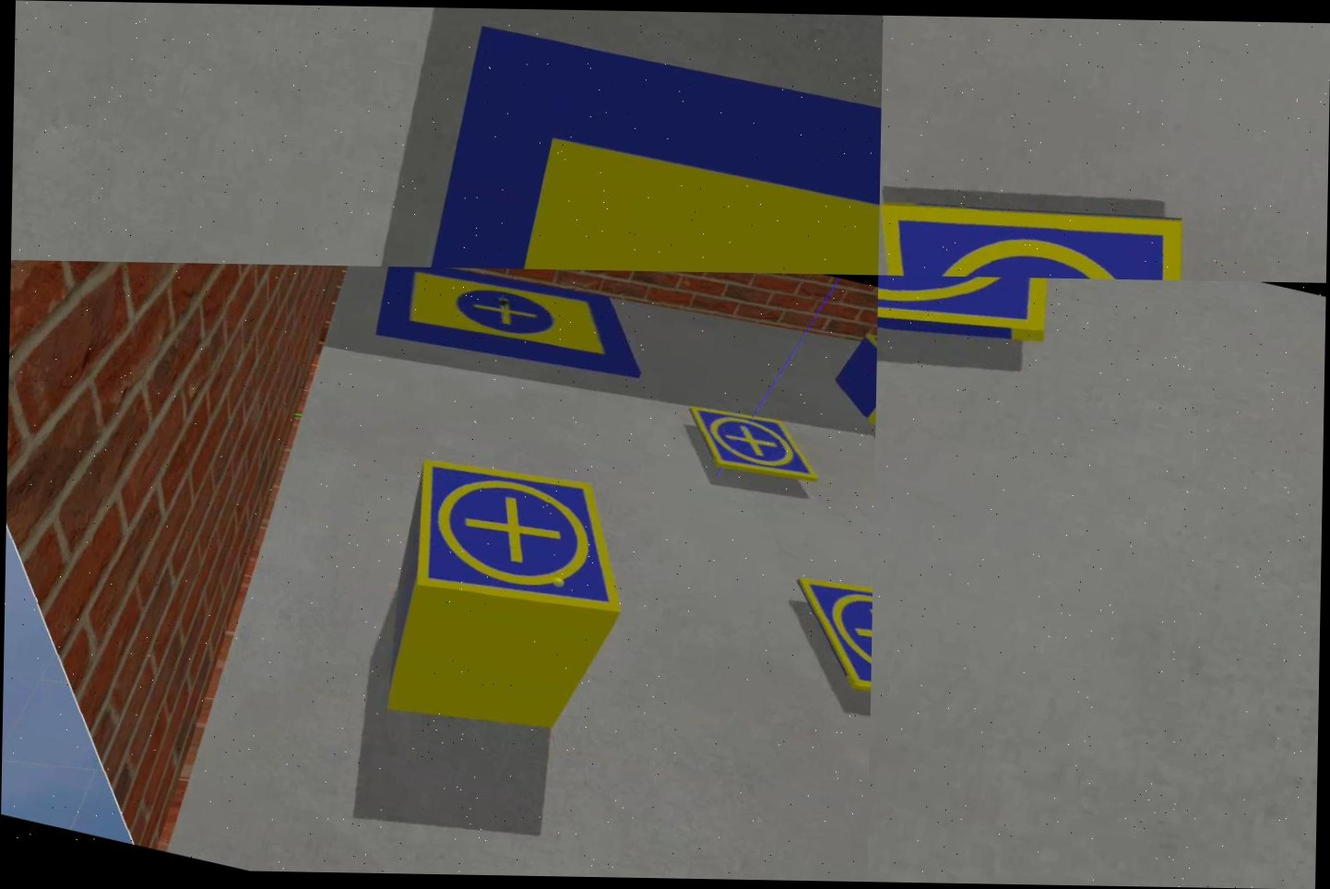large_base: (362, 13, 883, 275), (370, 267, 659, 397)
small_base: (391, 444, 650, 639), (878, 152, 1237, 281), (876, 275, 1069, 391), (778, 565, 873, 725), (675, 397, 827, 497)
